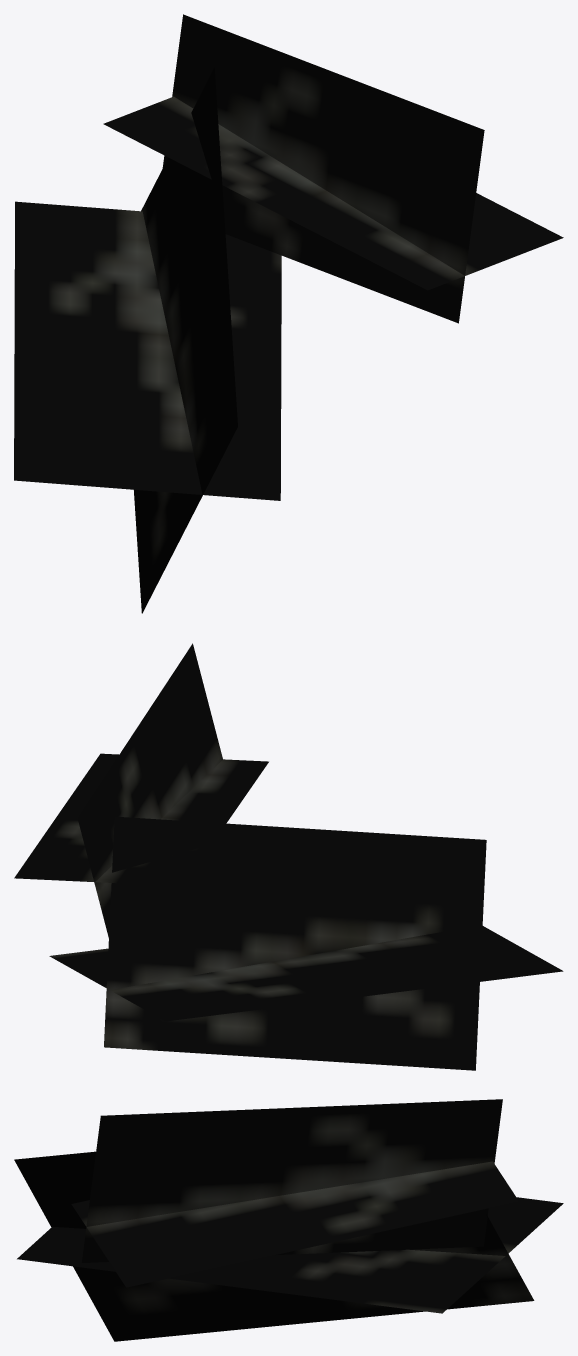
Rendered from burnt_branches.obj.
3 views of the same model, one above another, from view 1: azimuth 30°, elevation 25°; view 2: azimuth 150°, elevation 25°; view 3: azimuth 270°, elevation 25° (orthographic). The views are drawn at different scales.
Parts seen in each view (by area): view 1: cube; view 2: cube; view 3: cube.
Part boxes in pixels (x1=…): cube: x1=14, y1=14, x2=563, y2=613; cube: x1=14, y1=643, x2=563, y2=1070; cube: x1=14, y1=1099, x2=563, y2=1341.
Bounding box in the file's own units: 1.76 × 1.26 × 1.67.
